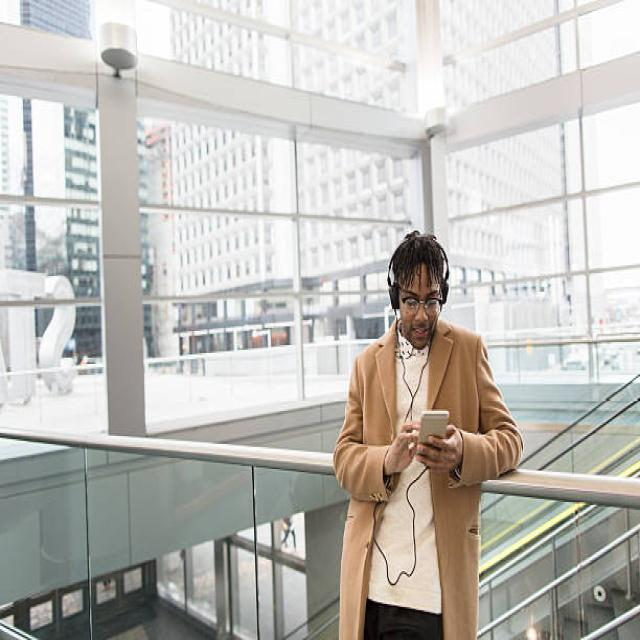Headphone: (385, 234, 451, 312)
